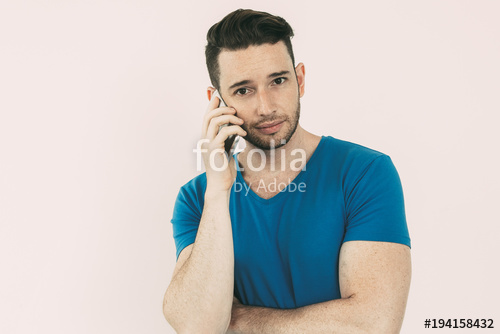phone: (205, 93, 240, 144)
talk: (201, 65, 300, 187)
